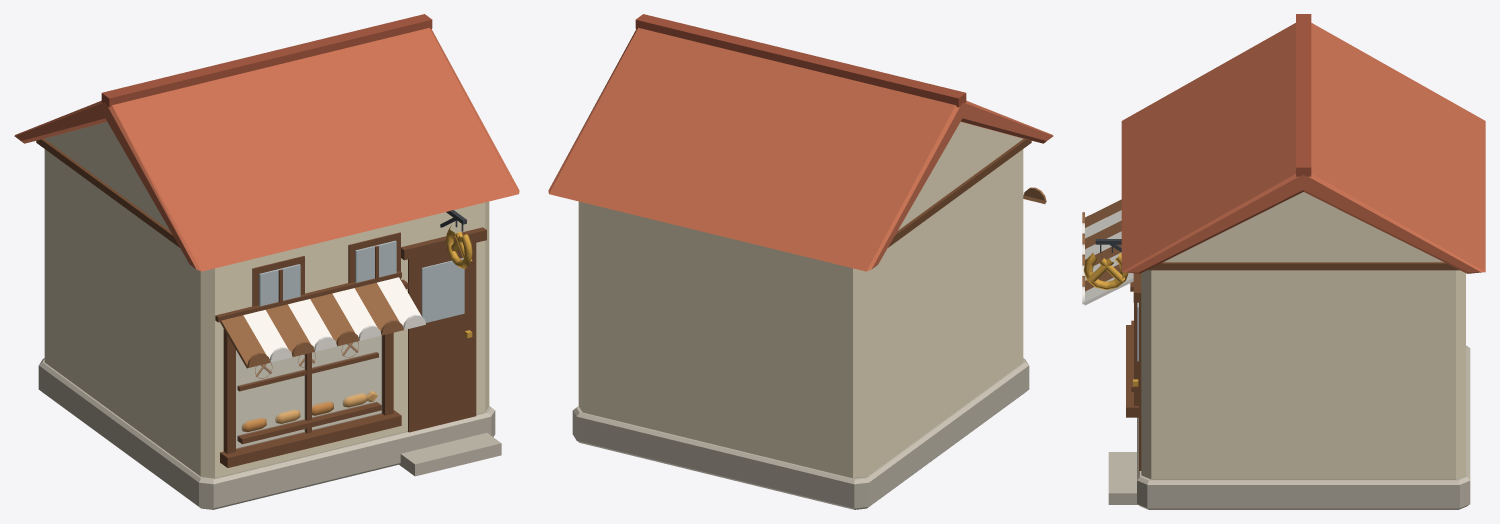
The model's file is bakery.glb.
The picture shows the model from 3 angles, left to right: view 1: azimuth 30°, elevation 25°; view 2: azimuth 150°, elevation 25°; view 3: azimuth 270°, elevation 25°; orthographic projection. The views are drawn at different scales.
Visible parts, largest first — view 1: roof, walls, plinth, door, shop_glass, roof_ridge, gable_walls, shop_frame_bottom, door_step, door_window, shop_frame_left, shop_shelf_low (+19 smaller); view 2: walls, roof, plinth, roof_ridge, gable_walls, eave_trim; view 3: walls, roof, plinth, gable_walls, eave_trim, roof_ridge, door_step, shop_frame_bottom, sign_pretzel_loop, door.
Part boxes in pixels (x1,y1,x2,y2): roof: [14, 28, 519, 271]; walls: [44, 149, 489, 478]; plinth: [38, 358, 495, 509]; door: [408, 243, 476, 432]; shop_glass: [236, 336, 381, 448]; roof_ridge: [101, 14, 432, 107]; gable_walls: [44, 122, 169, 230]; shop_frame_bottom: [220, 410, 401, 467]; door_step: [399, 433, 501, 476]; door_window: [421, 258, 464, 322]; shop_frame_left: [223, 329, 235, 453]; shop_shelf_low: [237, 401, 381, 444]; walls: [578, 149, 1023, 478]; roof: [548, 28, 1053, 271]; plinth: [572, 358, 1029, 509]; roof_ridge: [635, 14, 966, 107]; gable_walls: [898, 122, 1023, 230]; eave_trim: [888, 139, 1031, 247]; walls: [1141, 270, 1465, 479]; roof: [1121, 23, 1485, 273]; plinth: [1137, 345, 1470, 509]; gable_walls: [1163, 192, 1443, 262]; eave_trim: [1147, 262, 1459, 270]; roof_ridge: [1296, 14, 1311, 176]; door_step: [1108, 452, 1137, 504]; shop_frame_bottom: [1126, 325, 1138, 417]; sign_pretzel_loop: [1083, 253, 1128, 289]; door: [1139, 302, 1141, 470].
Size of the model in its own units: 3.36 by 3.57 by 3.72.
